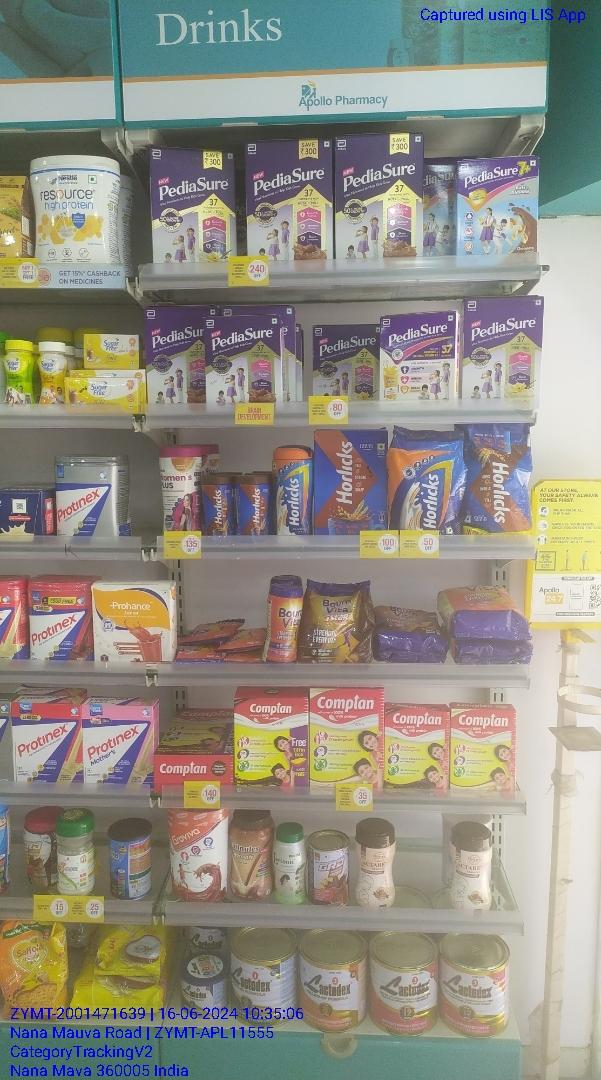COMPLAN_KESAR_BADAM_200_GMS_PACK: (450, 708, 517, 797)
